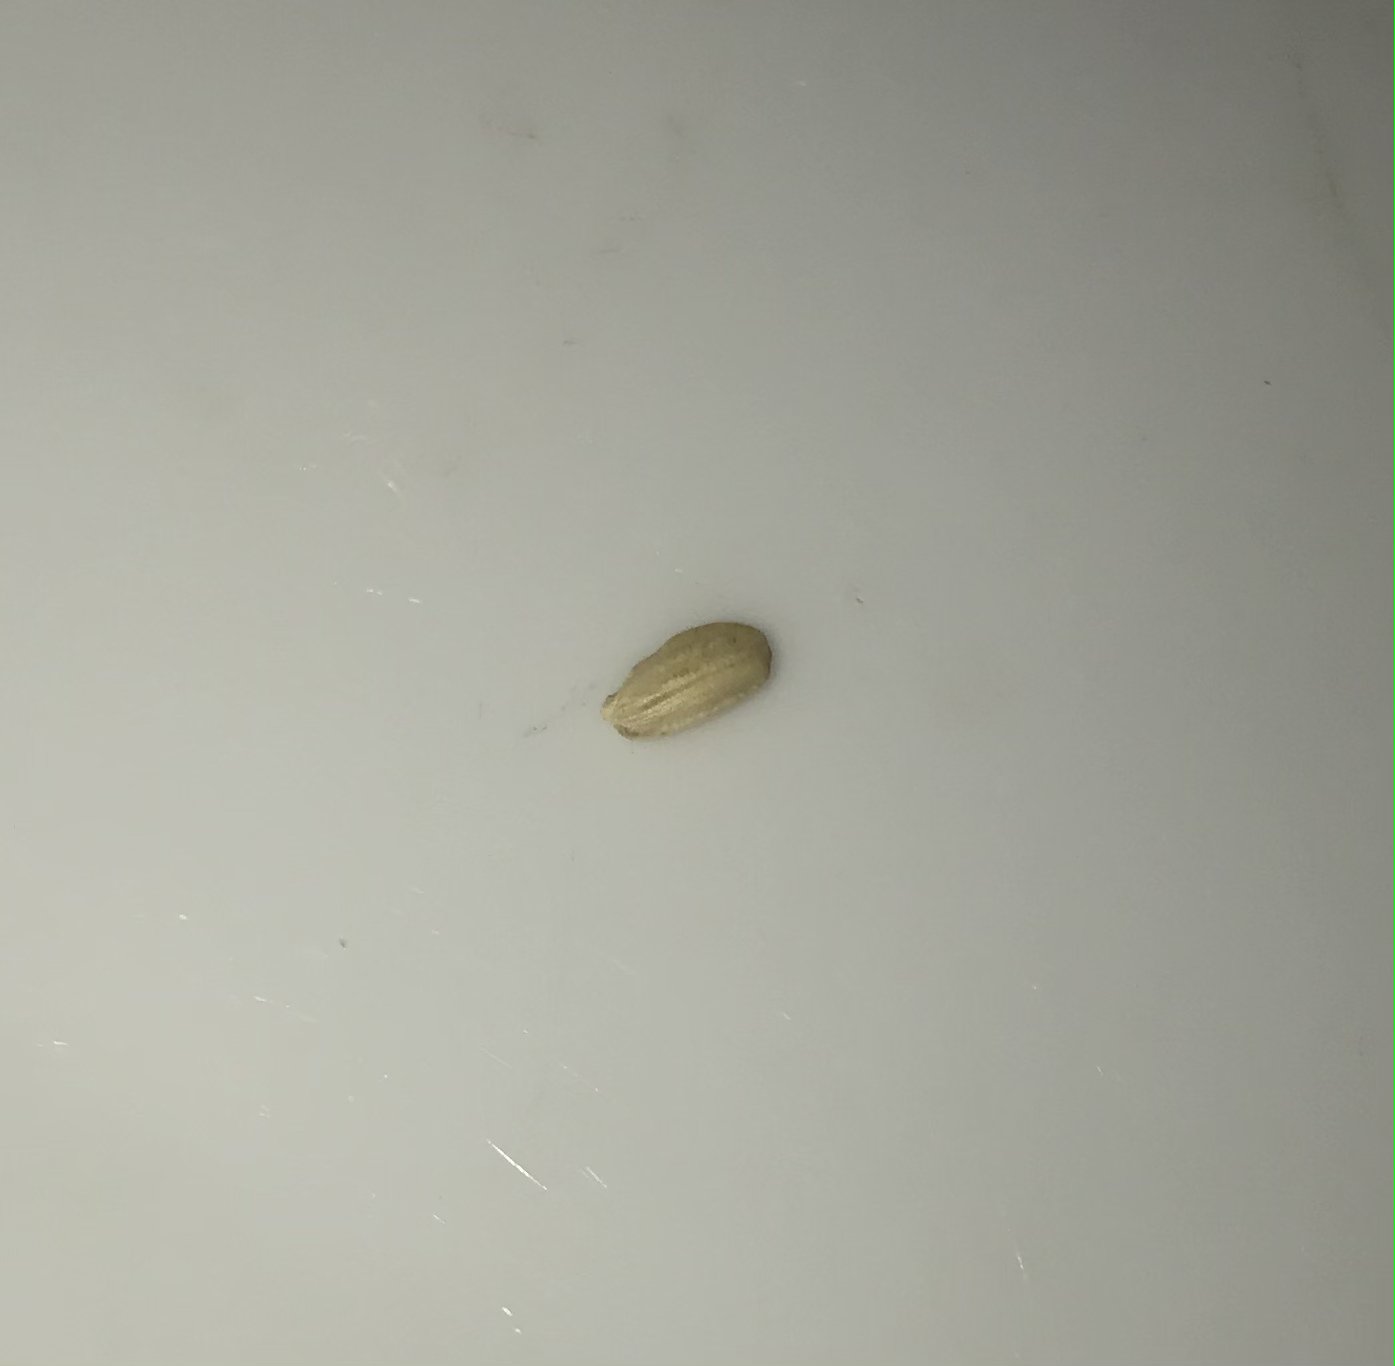Gao Lut Bac: (606, 618, 792, 769)
